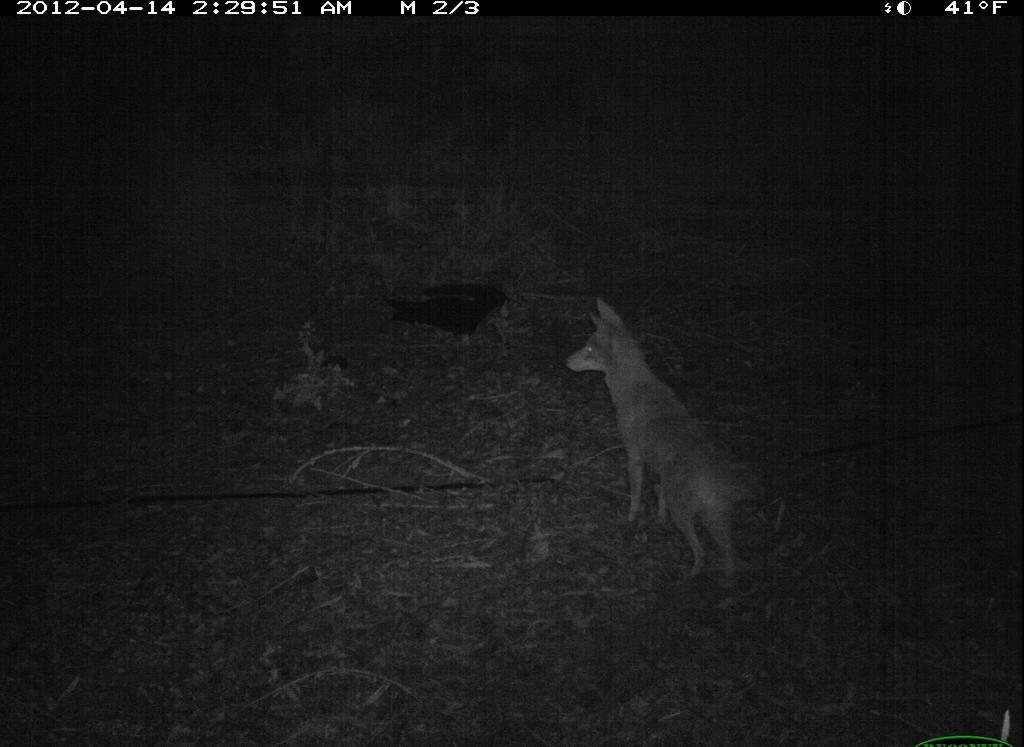coyote: (557, 294, 788, 591)
